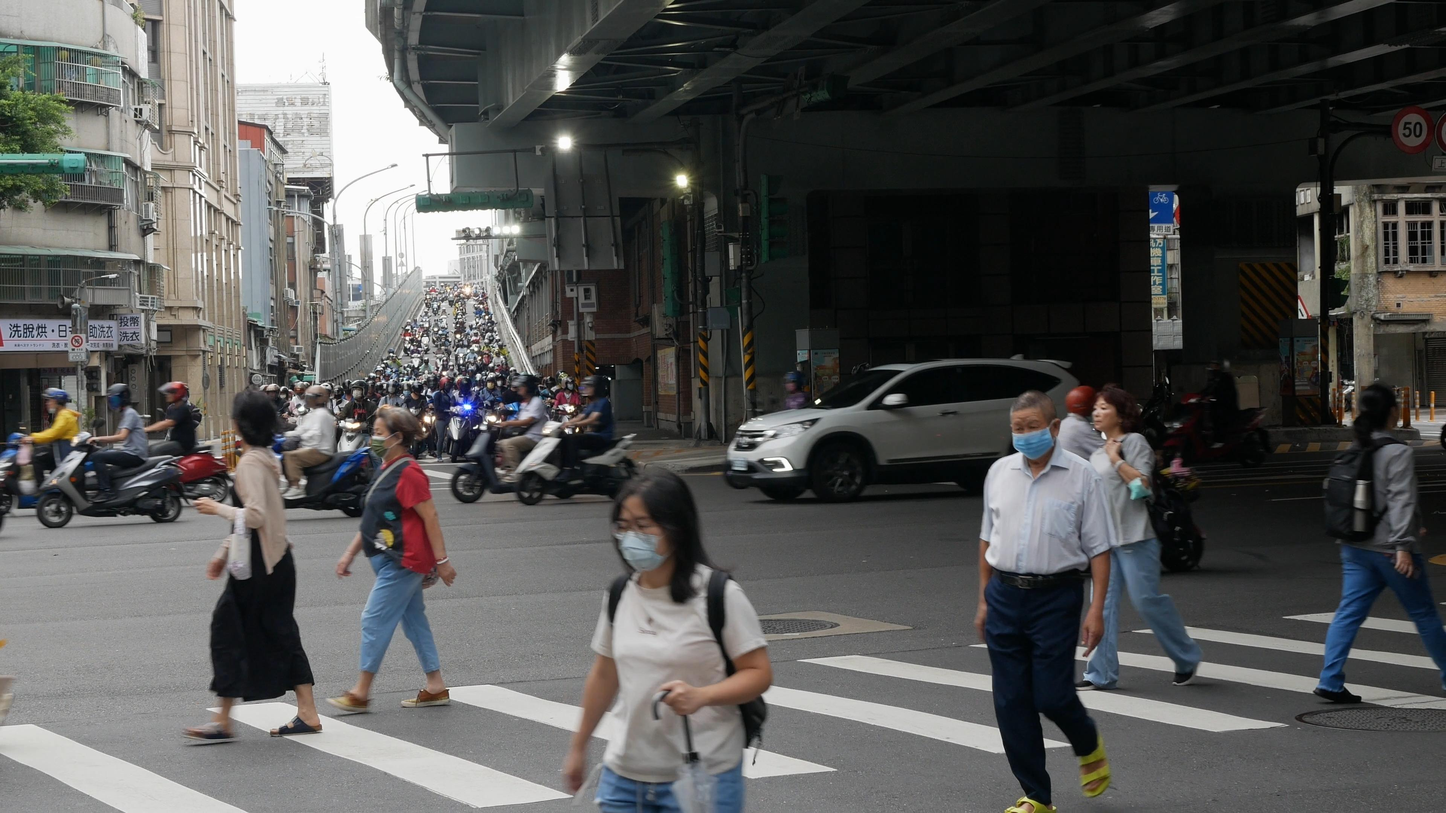driver: (36, 382, 191, 529), (514, 375, 640, 505), (451, 374, 550, 503), (327, 380, 376, 453), (443, 377, 484, 463)
helmet: (1066, 386, 1098, 418), (106, 383, 132, 413), (157, 381, 189, 404), (41, 387, 67, 414), (578, 376, 606, 399), (305, 385, 329, 408), (511, 375, 537, 396), (349, 380, 369, 399), (265, 383, 281, 401), (386, 379, 399, 400), (460, 377, 473, 396), (440, 377, 453, 394), (561, 376, 575, 391), (410, 381, 424, 395), (331, 385, 344, 400)
no-helmet: (609, 465, 738, 604), (1009, 390, 1061, 461), (1353, 383, 1400, 450), (230, 384, 278, 448), (371, 404, 426, 458), (1091, 383, 1142, 433)
